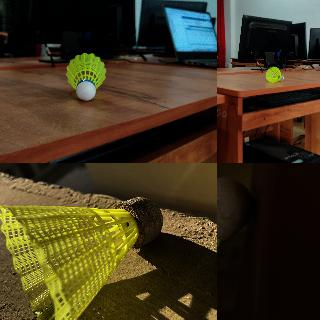shuttlecock: (0, 197, 163, 319), (217, 177, 253, 319), (66, 53, 106, 101), (264, 66, 284, 82)
